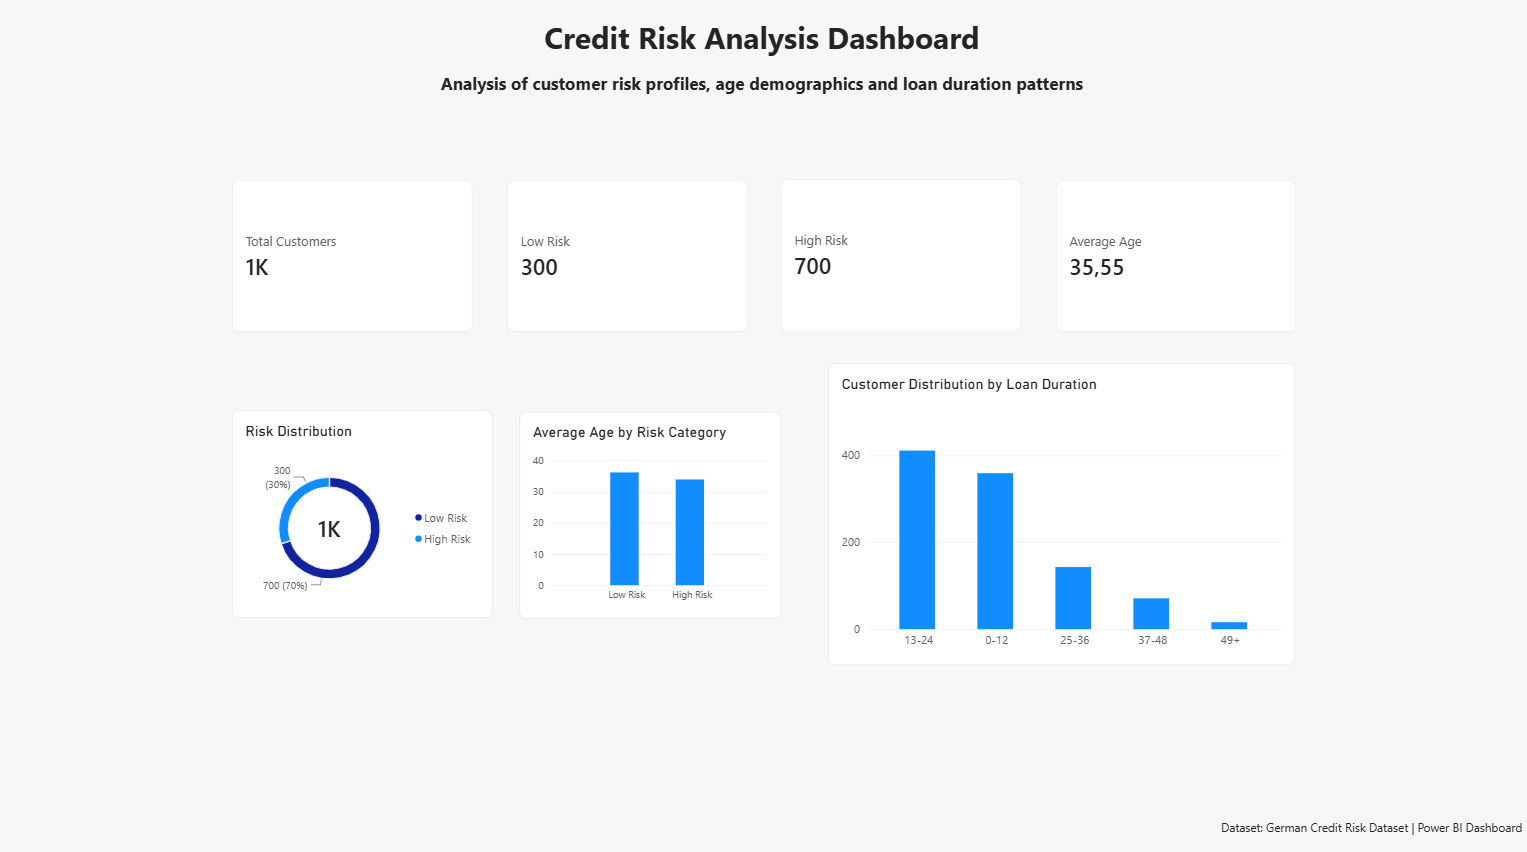

The page's visual inventory and layout, read from the dashboard file:
{"tool":"powerbi","page":{"name":"Page 1","canvas":[1920,1080],"ordinal":0},"visuals":[{"type":"donutChart","title":"Risk Distribution","fields":{"Category":["GermanCredit.Risk Label"],"Y":["CountNonNull(GermanCredit.Risk)"]},"box":[299,520.5,324.4,258.1],"z":0},{"type":"clusteredColumnChart","title":"Average Age by Risk Category","fields":{"Category":["GermanCredit.Risk Label"],"Y":["Avg(GermanCredit.Age)"]},"box":[657.6,521.5,350.6,258.1],"z":1000},{"type":"cardVisual","fields":{"Data":["GermanCredit.Total Customers"]},"box":[299.3,233.7,300.8,189.1],"z":2000},{"type":"cardVisual","fields":{"Data":["GermanCredit.Low Risk"]},"box":[641.6,233.7,300.8,189.1],"z":3000},{"type":"cardVisual","fields":{"Data":["GermanCredit.High Risk"]},"box":[983.8,232.8,300.8,190.9],"z":4000},{"type":"cardVisual","fields":{"Data":["GermanCredit.Average Age"]},"box":[1326,233.7,300.8,189.1],"z":5000},{"type":"clusteredColumnChart","title":"Customer Distribution by Loan Duration","fields":{"Category":["GermanCredit.Duration Band"],"Y":["CountNonNull(GermanCredit.Duration)"]},"box":[1043,462.2,582.6,376.7],"z":6000},{"type":"textbox","box":[0,30,1920.4,150],"z":6001},{"type":"textbox","box":[0,1030.8,1920.4,48.8],"z":6002}]}

Visuals, with their boxes in screenshot pixels (x1, y1, x2, y2), scaled from the page's 1920x1080 canvas onto the 1527x852 screenshot:
"Risk Distribution" donutChart: [238, 411, 496, 614]
"Average Age by Risk Category" clusteredColumnChart: [523, 411, 802, 615]
cardVisual - GermanCredit.Total Customers: [238, 184, 477, 334]
cardVisual - GermanCredit.Low Risk: [510, 184, 750, 334]
cardVisual - GermanCredit.High Risk: [782, 184, 1022, 334]
cardVisual - GermanCredit.Average Age: [1055, 184, 1294, 334]
"Customer Distribution by Loan Duration" clusteredColumnChart: [830, 365, 1293, 662]
textbox: [0, 24, 1526, 142]
textbox: [0, 813, 1526, 851]
